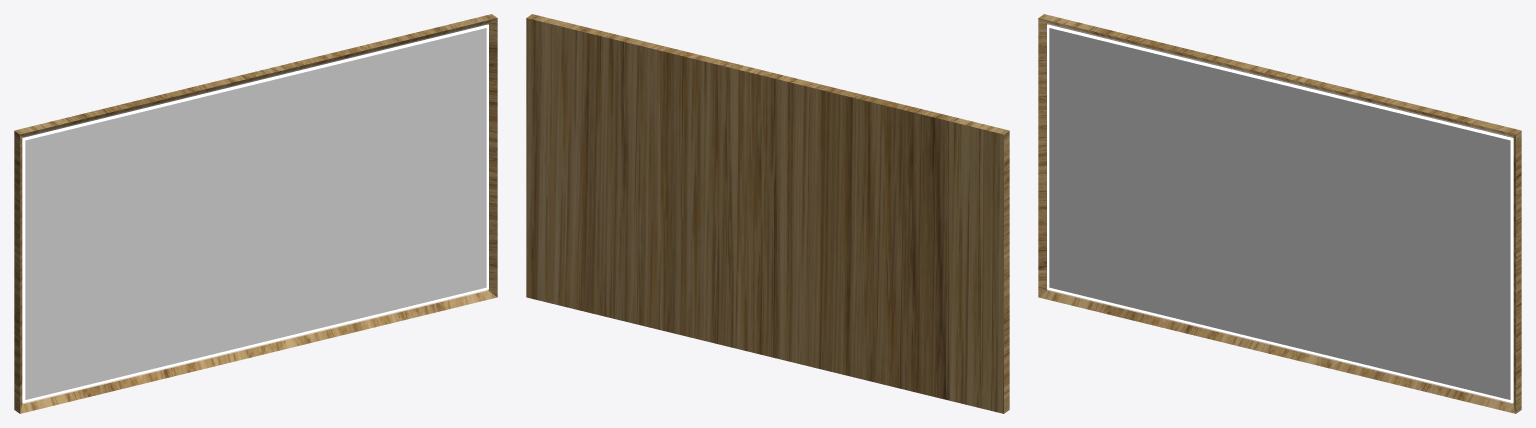
The picture shows the model from 3 angles, left to right: view 1: azimuth 30°, elevation 25°; view 2: azimuth 150°, elevation 25°; view 3: azimuth 330°, elevation 25°; orthographic projection.
Visible parts, largest first — view 1: EL-M; view 2: EL-M; view 3: EL-M.
Boxes of the visible parts, x1,y1,x2,y2 form: EL-M: (14, 14, 497, 413); EL-M: (526, 14, 1009, 413); EL-M: (1038, 14, 1521, 413).
Size of the model in its own units: 1.28 by 0.7146 by 0.0257.
Materials: 4 (2 with a texture image).
